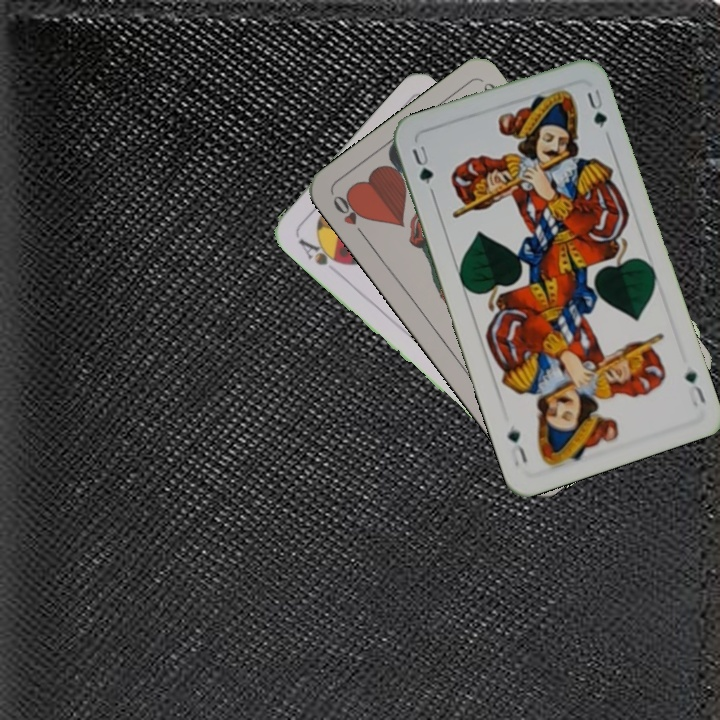GU: (407, 141, 436, 187), (681, 367, 708, 410)
HO: (328, 190, 369, 242)
SA: (294, 234, 347, 268)
